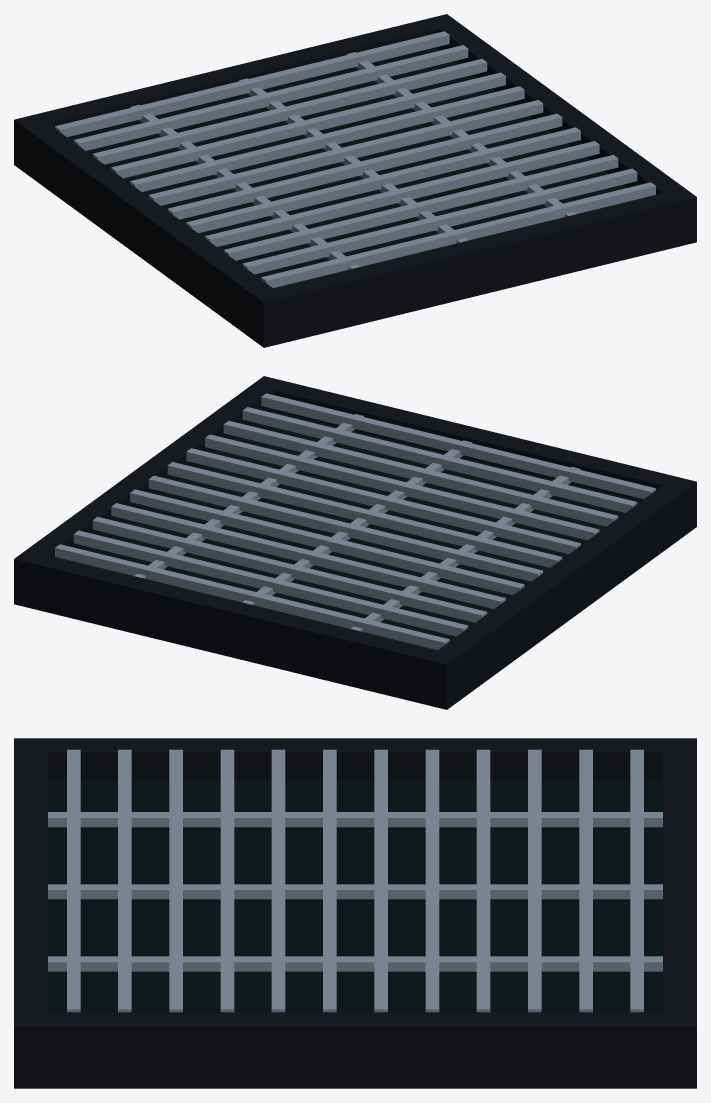
The model's file is SM_Floor_Grate_2x2.glb.
The picture shows the model from 3 angles, top to bottom: view 1: azimuth 30°, elevation 25°; view 2: azimuth 150°, elevation 25°; view 3: azimuth 270°, elevation 25°; orthographic projection. The views are drawn at different scales.
Visible parts, largest first — view 1: SM_Floor_Grate_2x2-col; view 2: SM_Floor_Grate_2x2-col; view 3: SM_Floor_Grate_2x2-col.
Part boxes in pixels (left/top/right/bottom): SM_Floor_Grate_2x2-col: left=14, top=14, right=696, bottom=347; SM_Floor_Grate_2x2-col: left=14, top=376, right=696, bottom=709; SM_Floor_Grate_2x2-col: left=14, top=738, right=696, bottom=1088.
Size of the model in its own units: 2 by 0.21 by 2.
